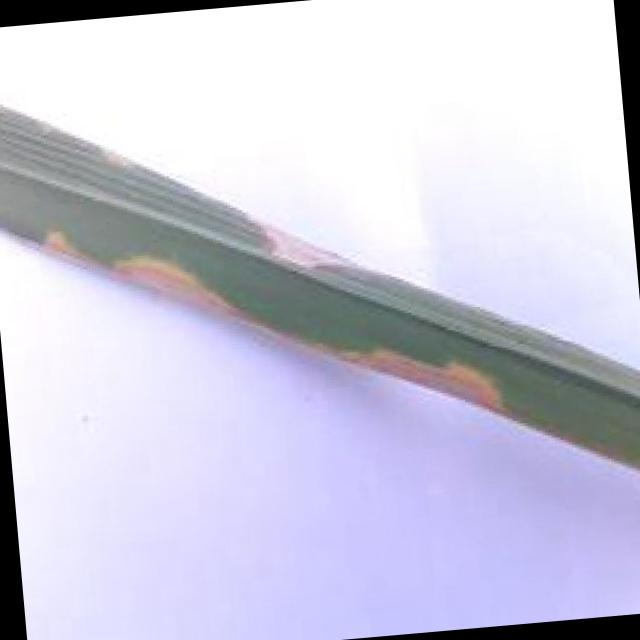Rice_Bacterial_Blight: (18, 186, 256, 357), (310, 288, 530, 438), (233, 161, 408, 298)
